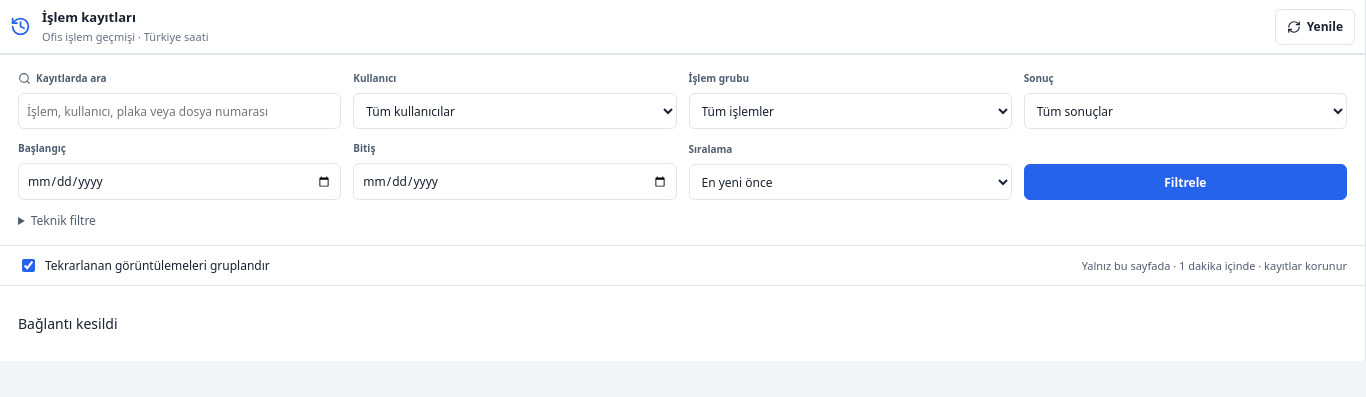
Test case: AuditLog › surfaces network failures and rejects malformed records instead of displaying them
Expected: the message reads "Bağlantı kesildi", [18,314,118,333]
Click the button "Yenile" at (1315, 26), box [1275,8,1355,44]
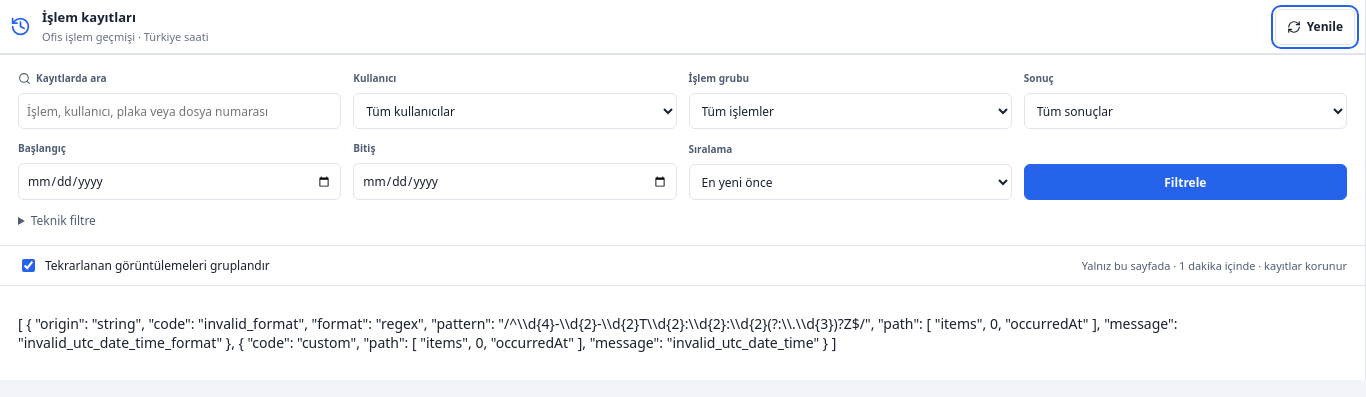
Expected: the message no longer shows "Bağlantı kesildi", [18,314,1178,352]
